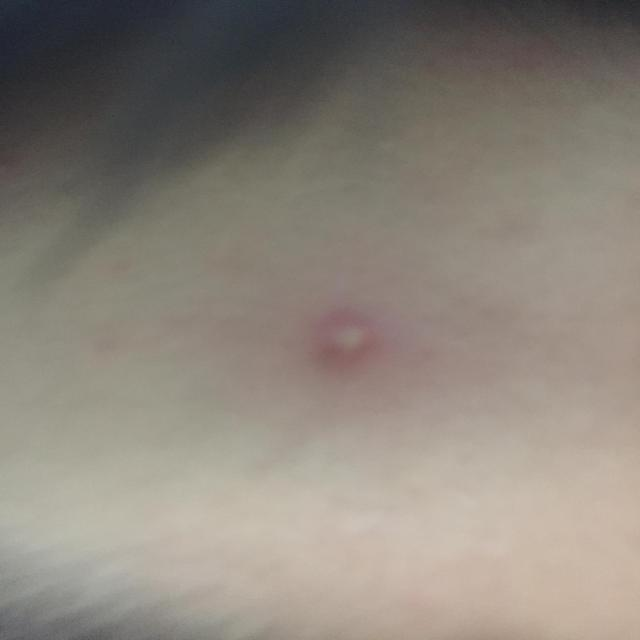blackheads: (286, 294, 394, 382)
